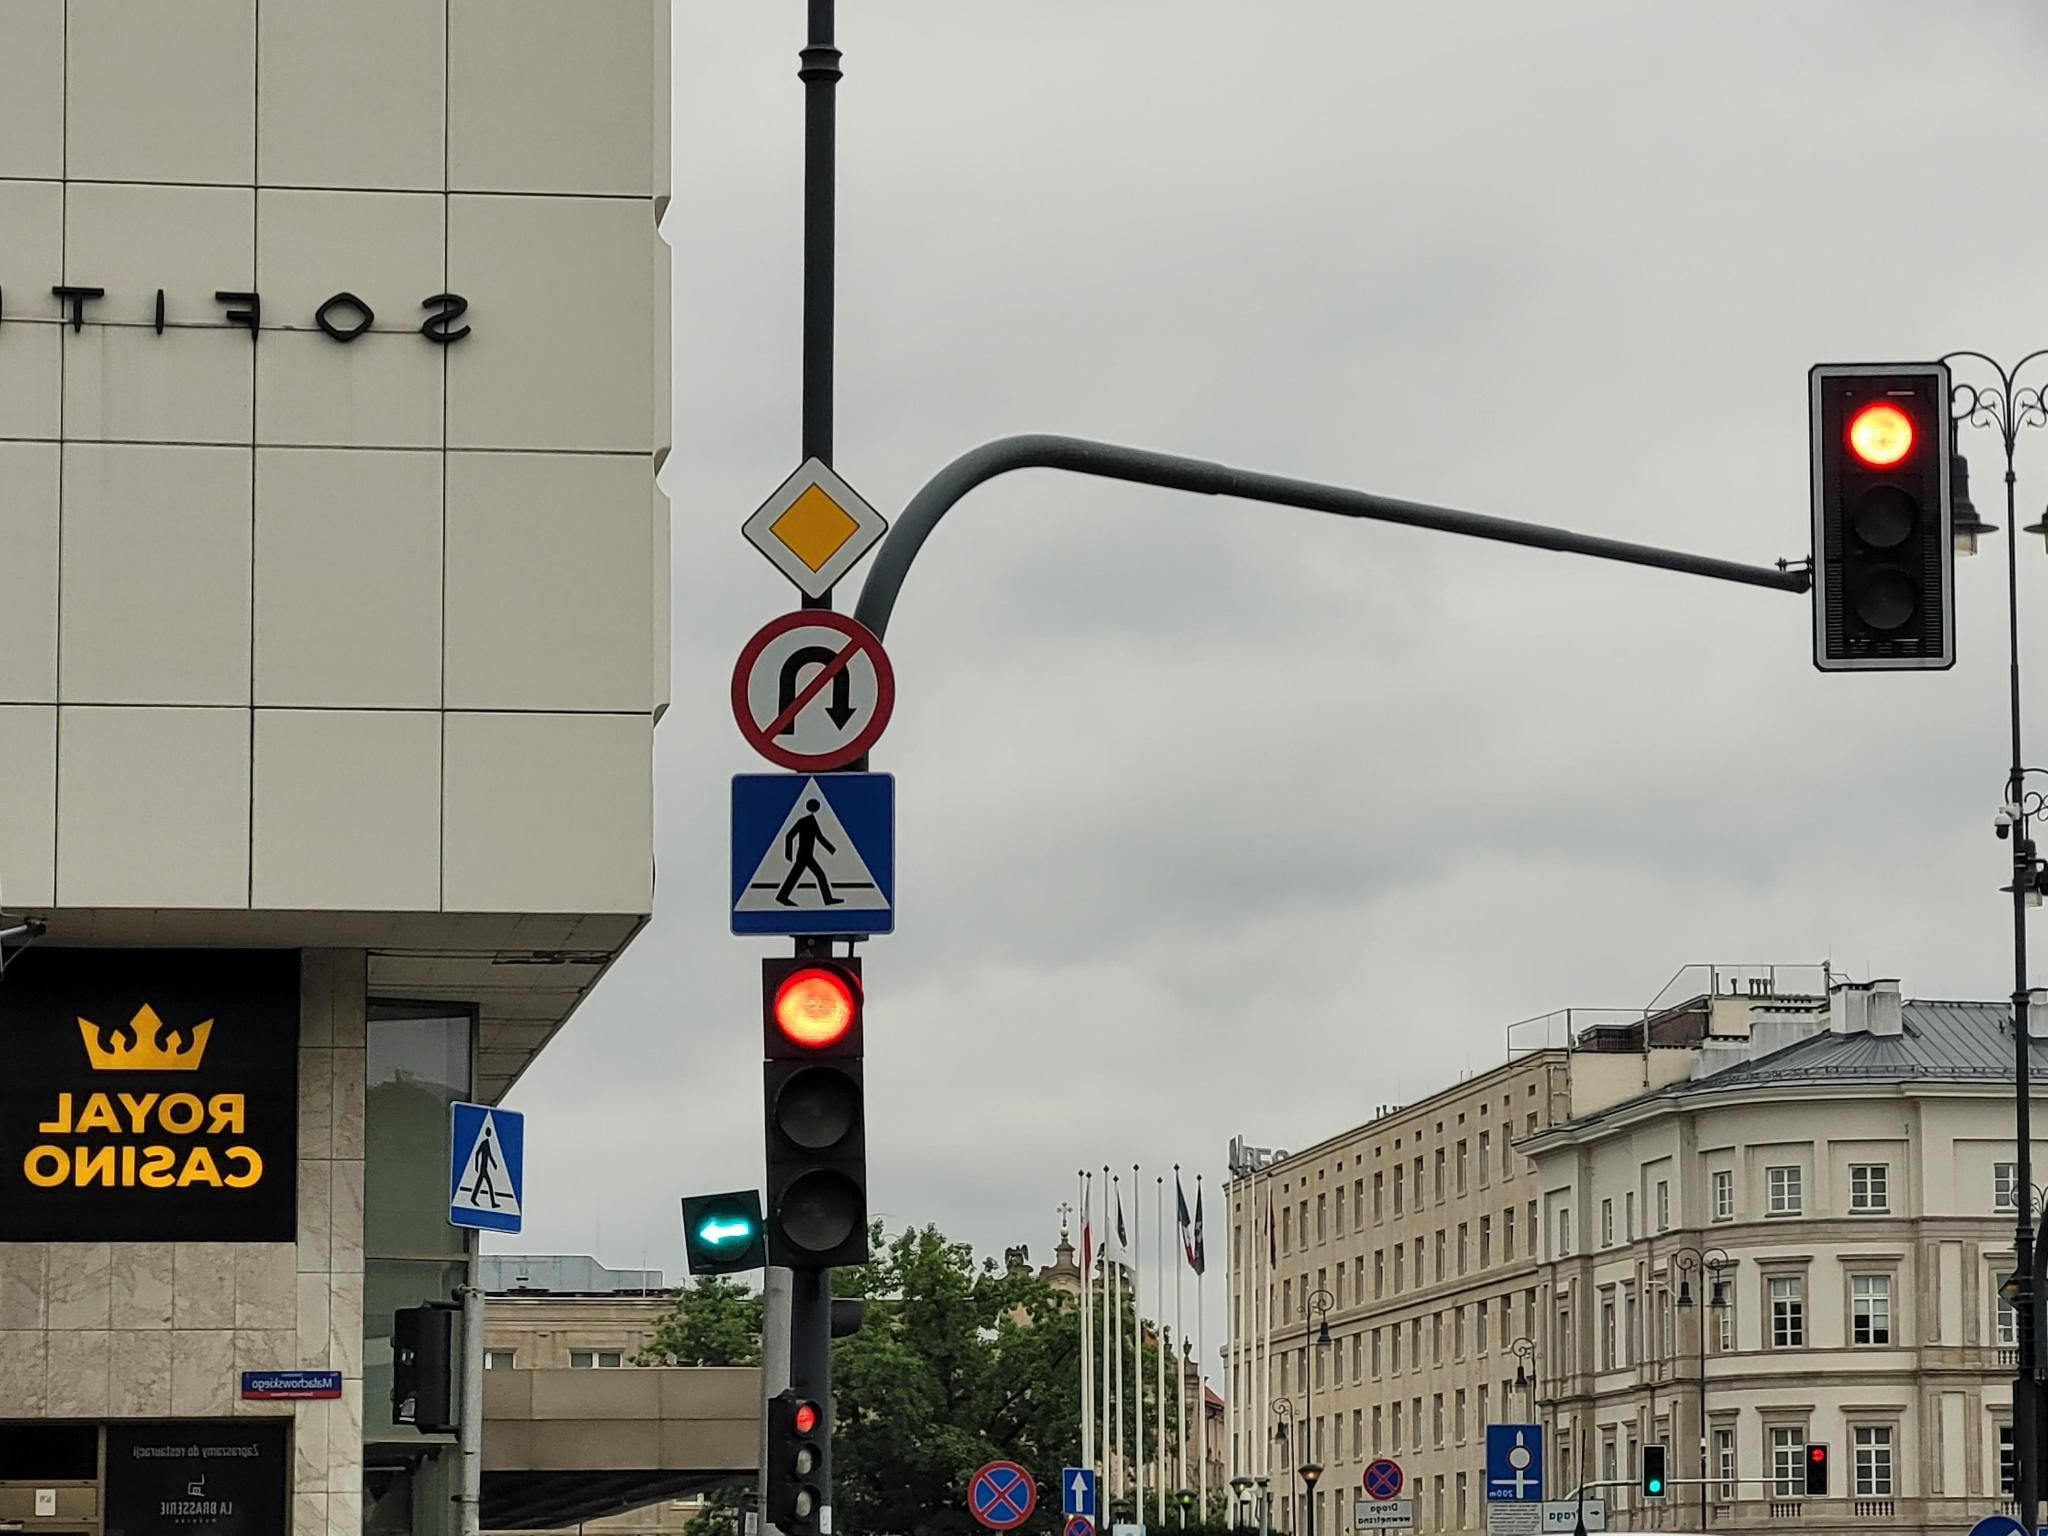direction-city: (1543, 1502, 1577, 1533), (1584, 1499, 1605, 1530)
information: (731, 771, 893, 936), (742, 455, 889, 600), (448, 1102, 524, 1233), (1355, 1502, 1413, 1531), (1063, 1468, 1093, 1512)
other: (1487, 1426, 1540, 1501), (1487, 1505, 1540, 1536)
prohibitory: (731, 608, 895, 771), (966, 1459, 1037, 1530), (1363, 1459, 1403, 1501), (1063, 1515, 1095, 1536)
